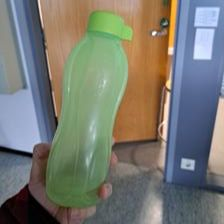bottle: (43, 10, 135, 210)
